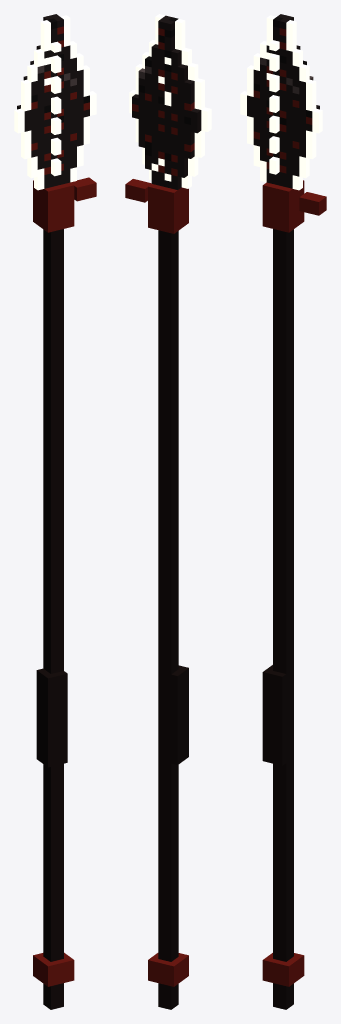
Rendered from spear_masterwork.glb.
3 renders of one model, left to right at view 1: azimuth 30°, elevation 25°; view 2: azimuth 150°, elevation 25°; view 3: azimuth 330°, elevation 25°, orthographic.
Parts seen in each view (by area): view 1: spear_masterwork; view 2: spear_masterwork; view 3: spear_masterwork.
Boxes of the visible parts, bbox=[...] form: spear_masterwork: bbox=[14, 14, 96, 1009]; spear_masterwork: bbox=[125, 14, 211, 1009]; spear_masterwork: bbox=[240, 14, 326, 1009].
Bounding box in the file's own units: 0.18 × 2.16 × 0.06.
